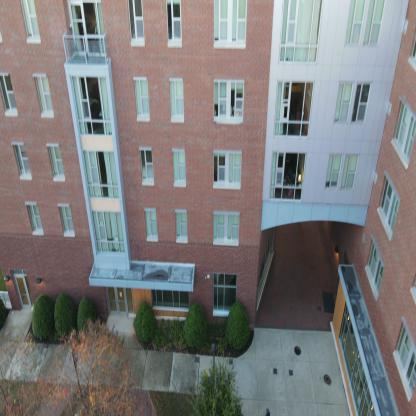Wolf Ridge: (0, 0, 414, 408)
